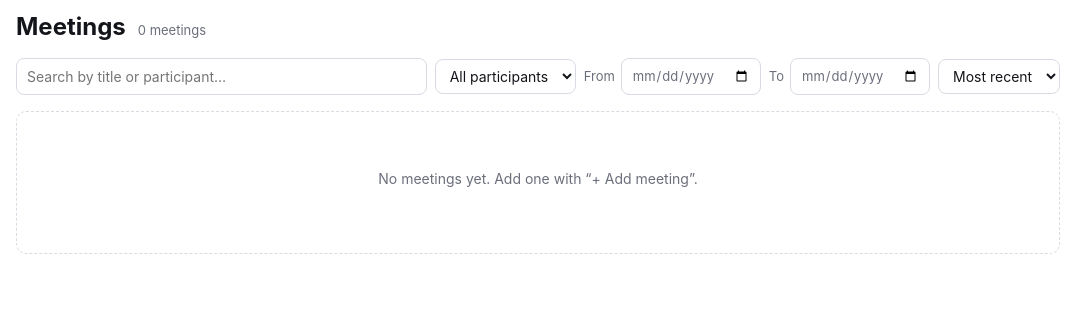
Test: library › empty state with filters offers clearing; error state offers retry
Expected: the text "No meetings yet. Add one with “+ Add meeting”." is shown, [378,168,698,189]
In the search field named "Search meetings": point(221, 76) [16,58,427,95], type "zzz"
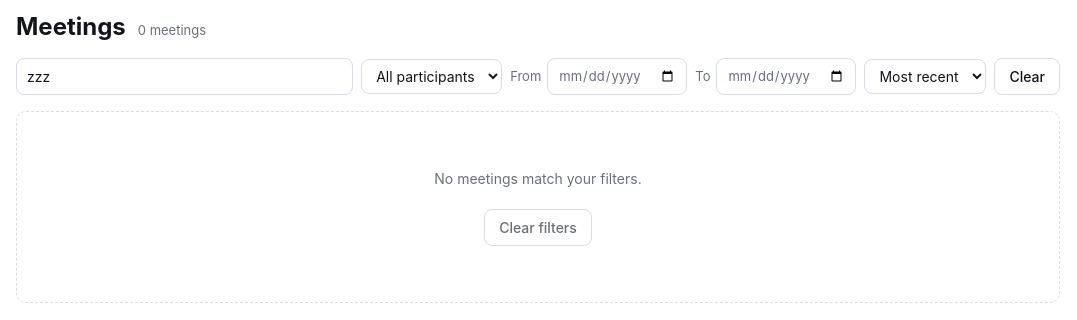
Now the text "No meetings match your filters." is shown, box [434,168,642,189]
